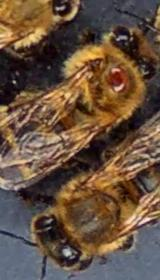varroa_mite: (101, 59, 132, 99)
